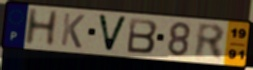8: (166, 21, 192, 58)
B: (126, 17, 160, 55)
H: (23, 7, 61, 47)
K: (59, 12, 87, 50)
R: (193, 22, 226, 62)
V: (96, 13, 129, 54)
